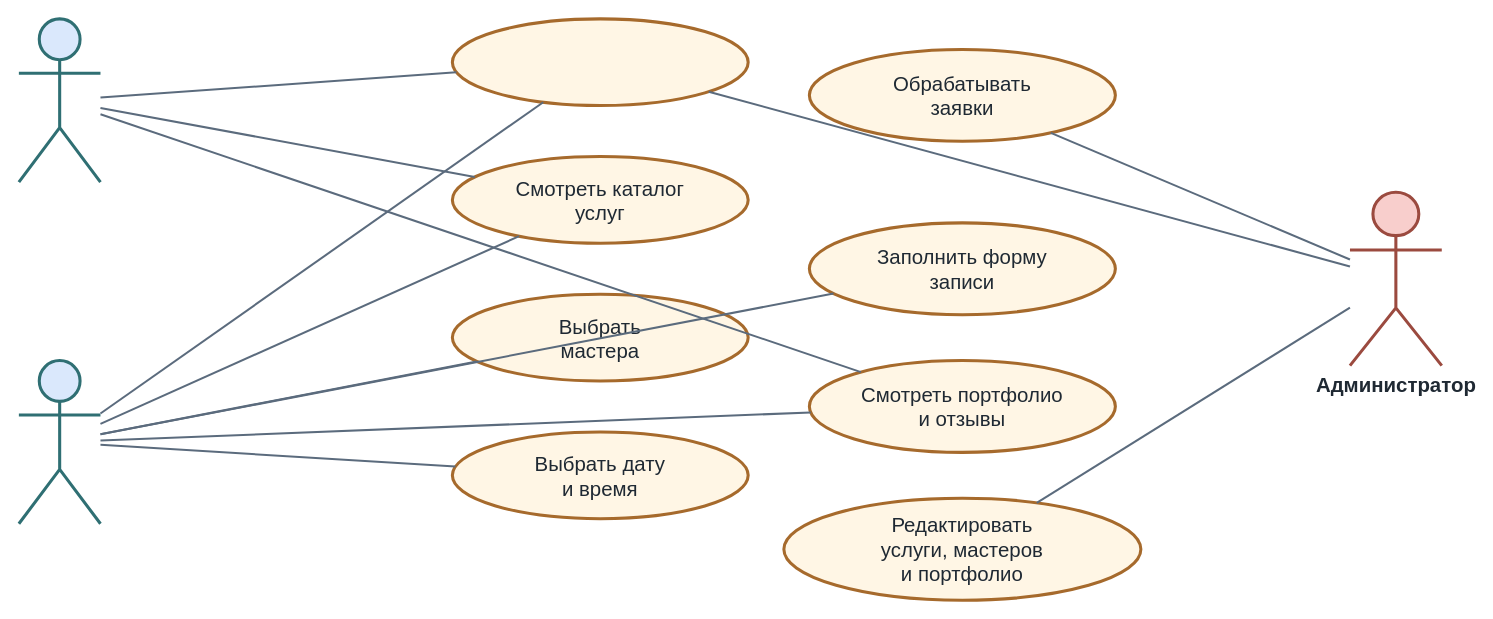
Image size: 1493x619. Some labels were removed from this diagram. The centre of each missing label's shape, as x and y in pixels:
Гость: (x=59, y=100)
Клиент: (x=59, y=442)
Просматривать главную страницу: (x=599, y=62)
